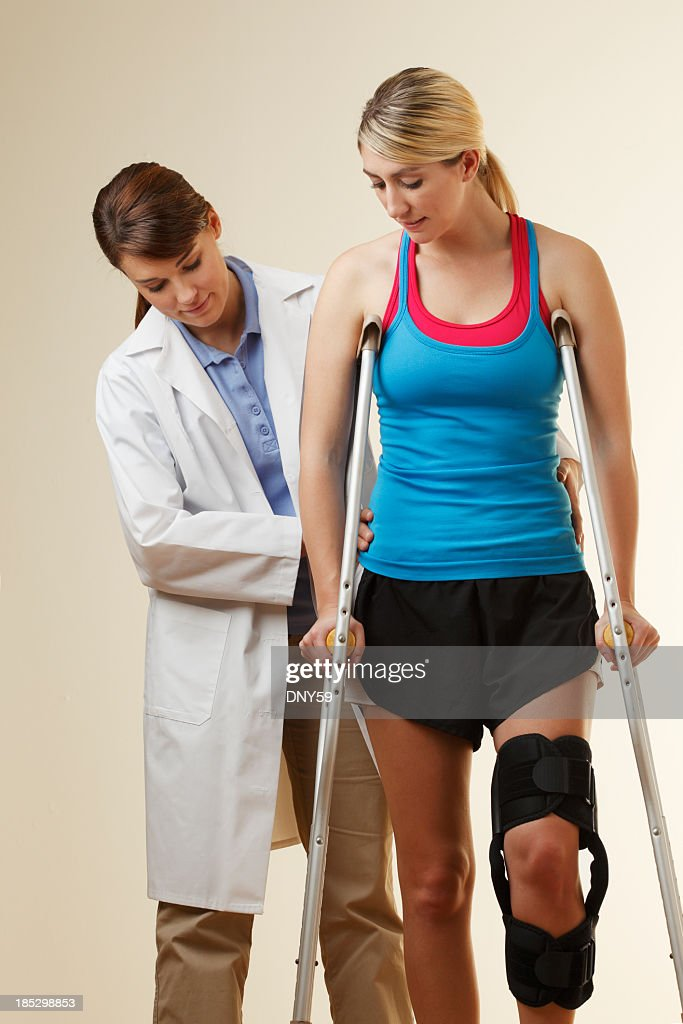crutches: (288, 66, 683, 1024)
